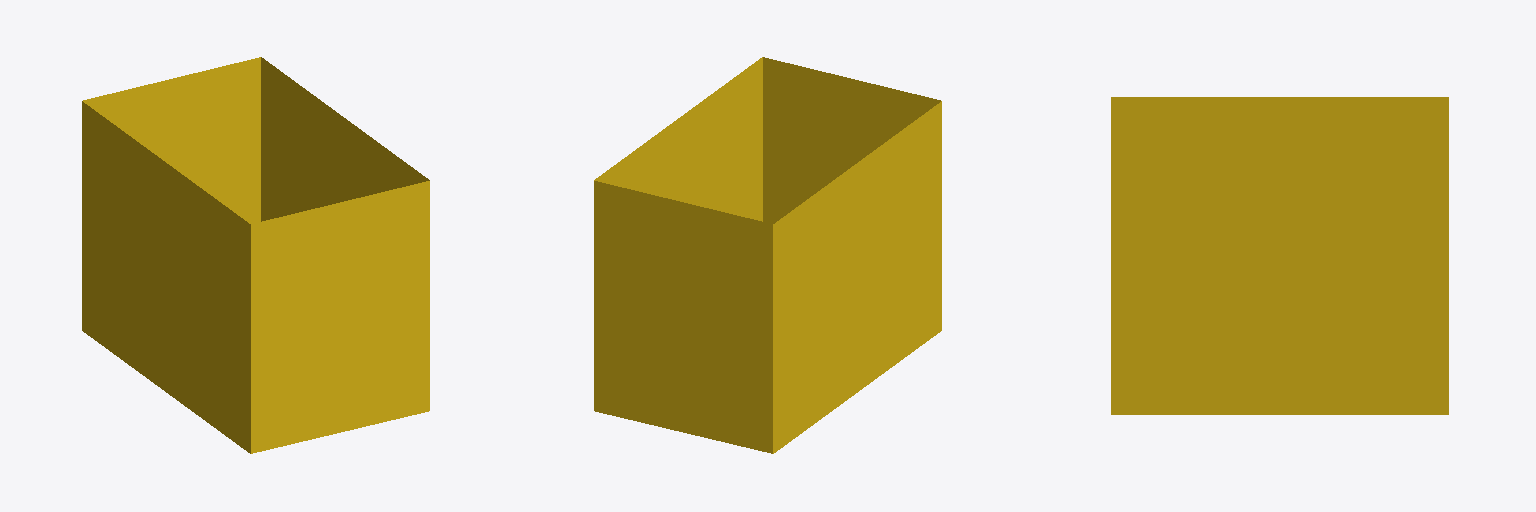
File: drakkar.obj
3 views of the same model, side by side, from view 1: azimuth 30°, elevation 25°; view 2: azimuth 150°, elevation 25°; view 3: azimuth 270°, elevation 25° (orthographic).
Parts seen in each view (by area): view 1: Cube_0; view 2: Cube_0; view 3: Cube_0.
Part boxes in pixels (left/top/right/bottom): Cube_0: left=82, top=57, right=429, bottom=453; Cube_0: left=594, top=57, right=941, bottom=453; Cube_0: left=1111, top=97, right=1448, bottom=414.
Bounding box in the file's own units: 96.17 × 118 × 156.